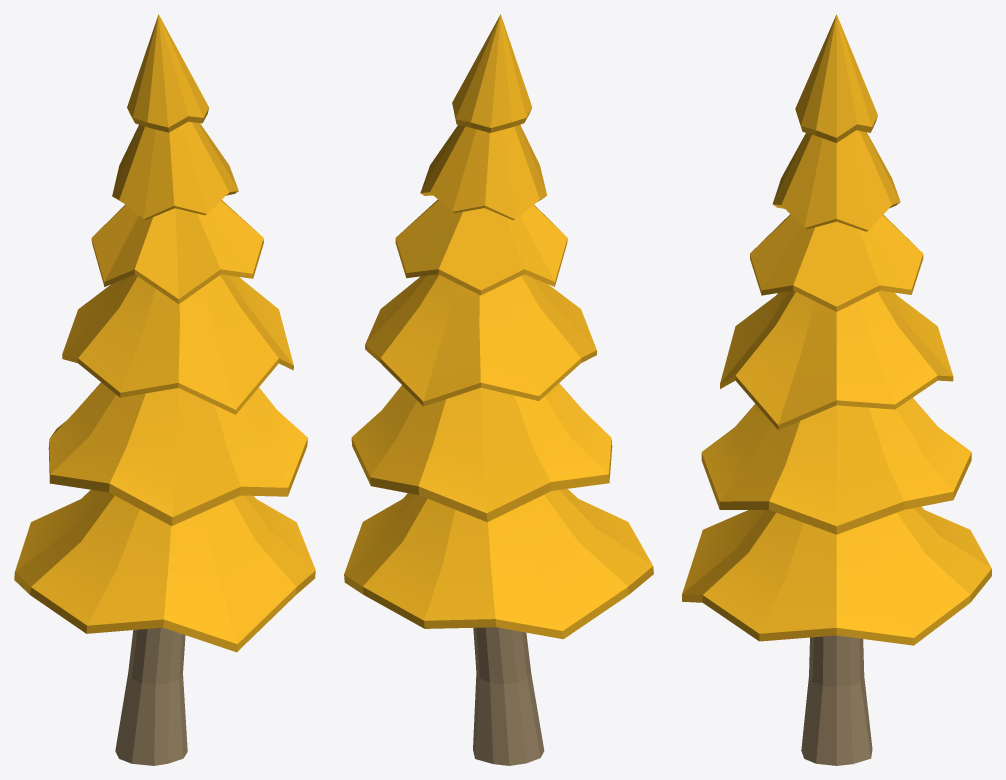
Rendered from more more tree5.fbx.
3 renders of one model, left to right at view 1: azimuth 30°, elevation 25°; view 2: azimuth 150°, elevation 25°; view 3: azimuth 270°, elevation 25°, orthographic.
Visible parts, largest first — view 1: tree_004_autumn; view 2: tree_004_autumn; view 3: tree_004_autumn.
Boxes of the visible parts, box(x1,y1,x2,y2) form: tree_004_autumn: box(14, 14, 315, 765); tree_004_autumn: box(344, 14, 653, 765); tree_004_autumn: box(682, 14, 991, 765).
Bounding box in the file's own units: 1.96 × 5.17 × 1.96.
